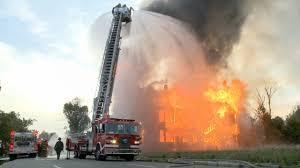fire: (157, 76, 249, 144)
